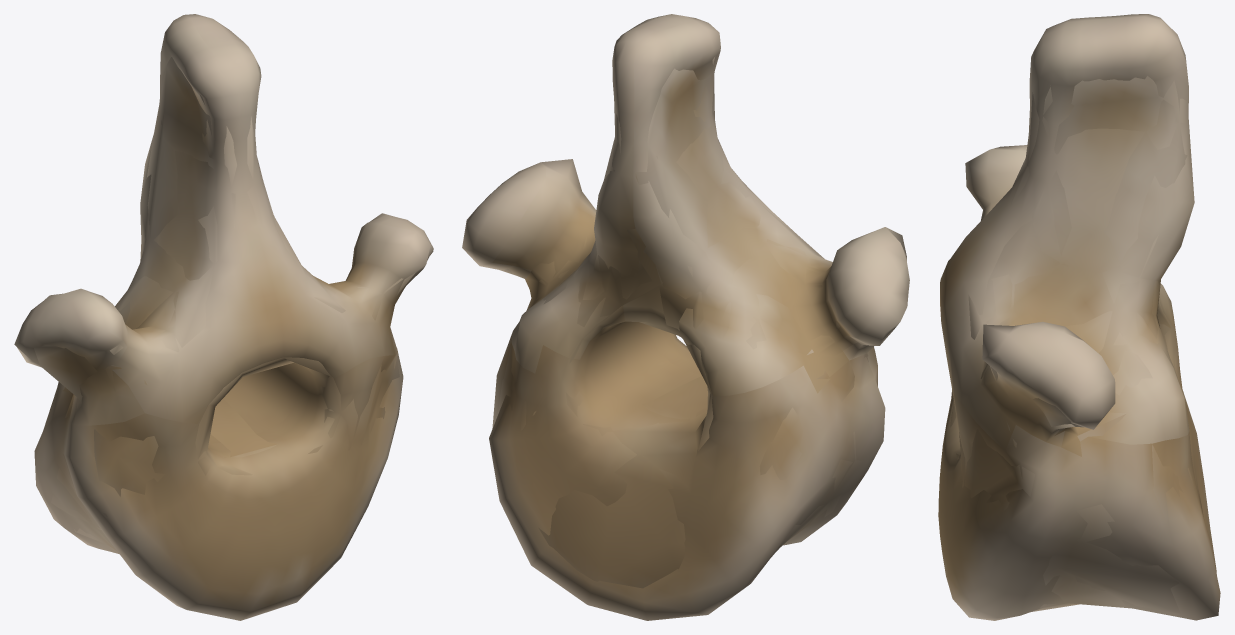
Rendered from vertebrae thoracicae 16.fbx.
The picture shows the model from 3 angles, left to right: view 1: azimuth 30°, elevation 25°; view 2: azimuth 150°, elevation 25°; view 3: azimuth 270°, elevation 25°; orthographic projection. The views are drawn at different scales.
Visible parts, largest first — view 1: vertebrae thoracicae 16, vertebrae thoracicae 16 low; view 2: vertebrae thoracicae 16, vertebrae thoracicae 16 low; view 3: vertebrae thoracicae 16, vertebrae thoracicae 16 low.
Boxes of the visible parts, x1,y1,x2,y2 form: vertebrae thoracicae 16: (14, 14, 433, 620); vertebrae thoracicae 16 low: (34, 57, 415, 554); vertebrae thoracicae 16: (462, 14, 909, 620); vertebrae thoracicae 16 low: (497, 56, 874, 588); vertebrae thoracicae 16: (938, 14, 1220, 620); vertebrae thoracicae 16 low: (950, 76, 1202, 613).
Size of the model in its own units: 8.64 by 10.71 by 4.62.
Materials: 1 (1 with a texture image).
